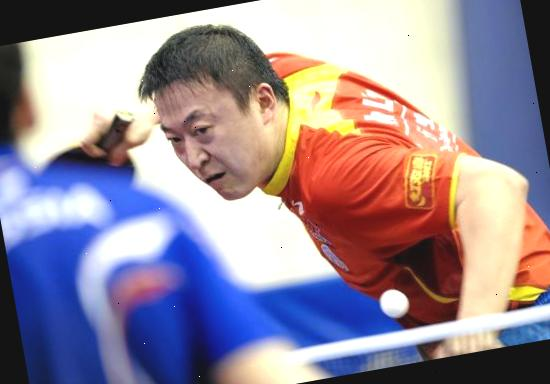ball: (373, 281, 412, 324)
